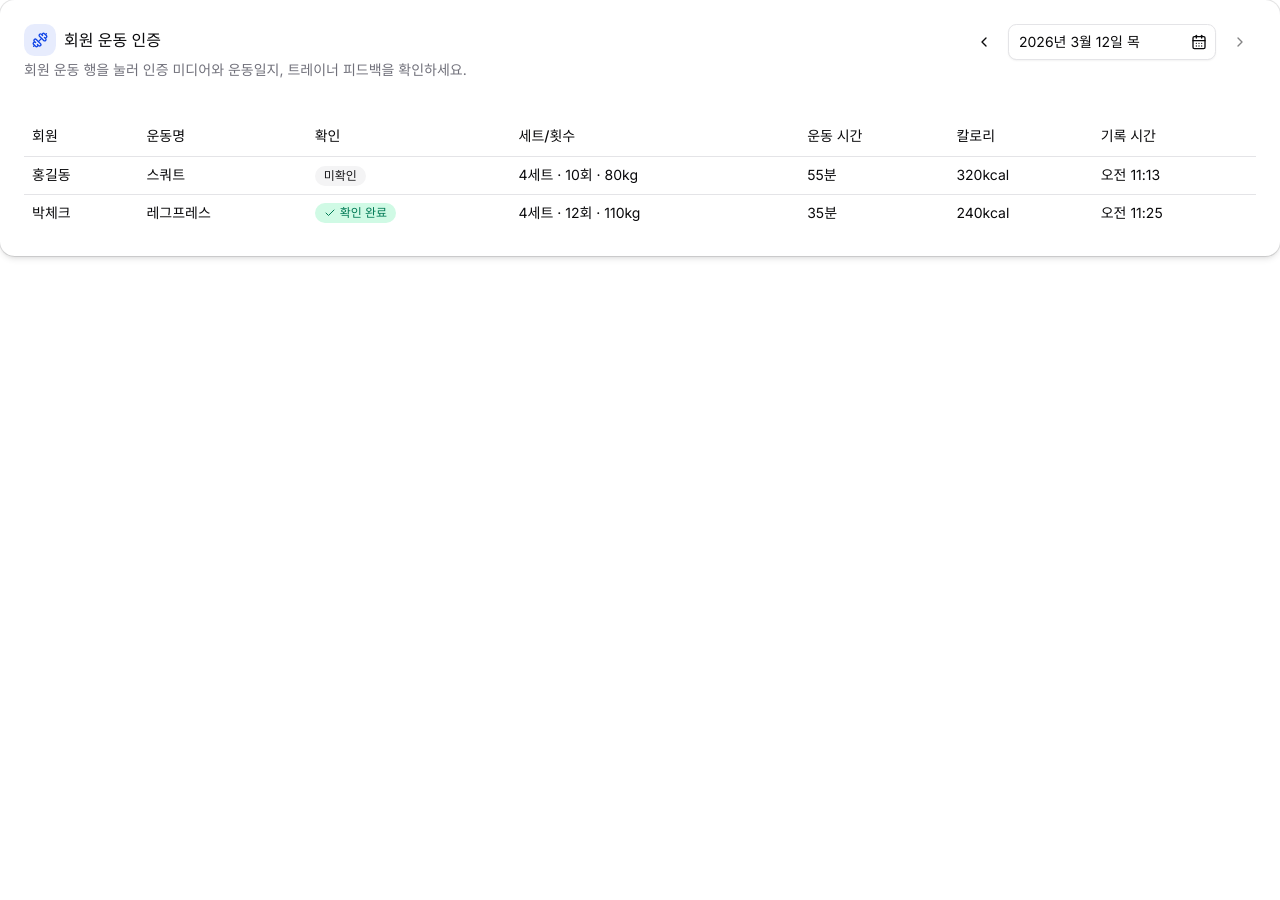
Test: WorkoutMemberTable › 회원 운동 행을 누르면 상세 다이얼로그와 최근 기록을 보여준다
Click the text "홍길동". click: [51, 174]
box: [24,156,138,194]
(page scrolled)
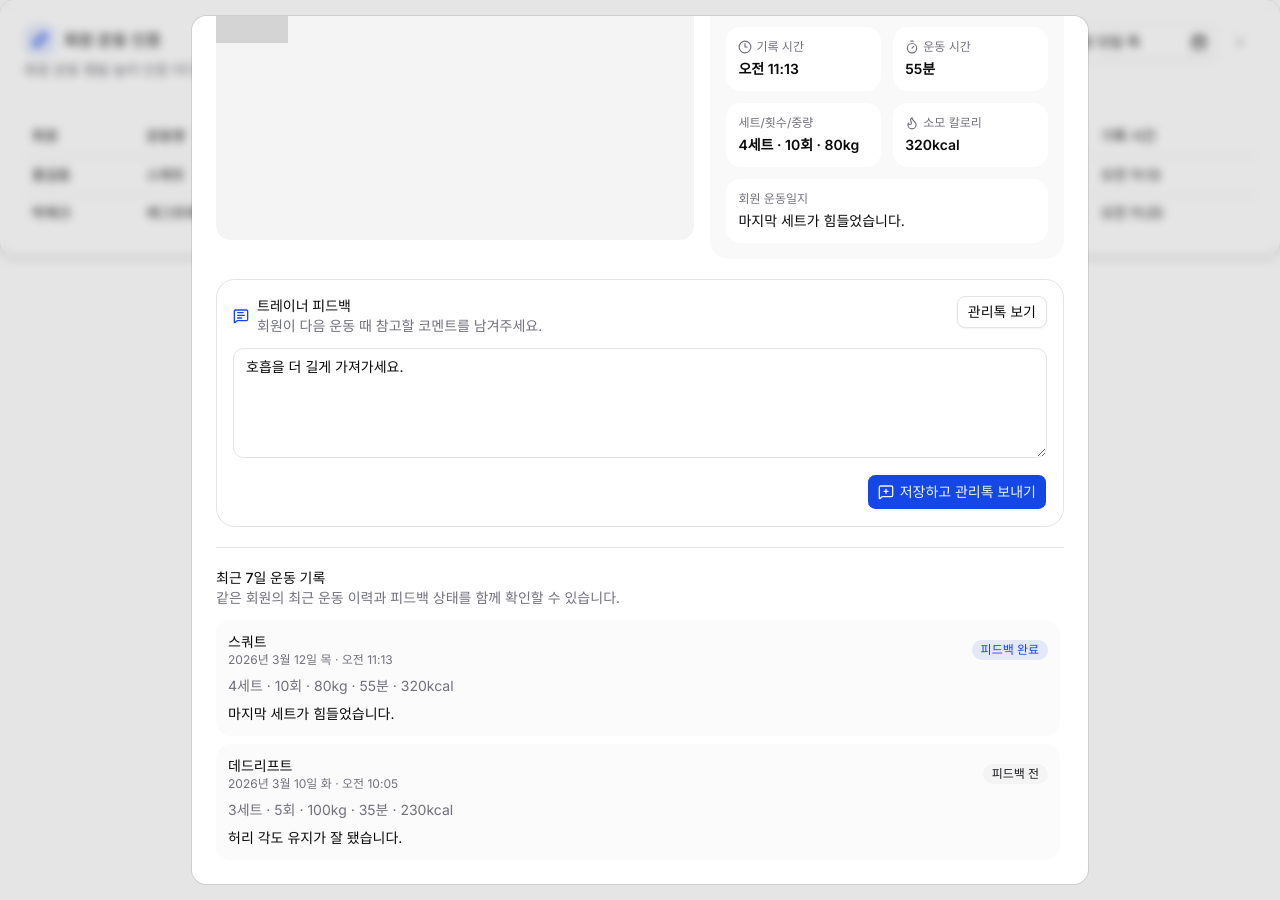
expect the text "마지막 세트가 힘들었습니다." below "회원 운동일지" is shown: met, box [738,212,905,229]
expect the heading "최근 7일 운동 기록" is shown: met, box [216,569,325,586]
expect the text "데드리프트" is shown: met, box [228,757,292,774]
